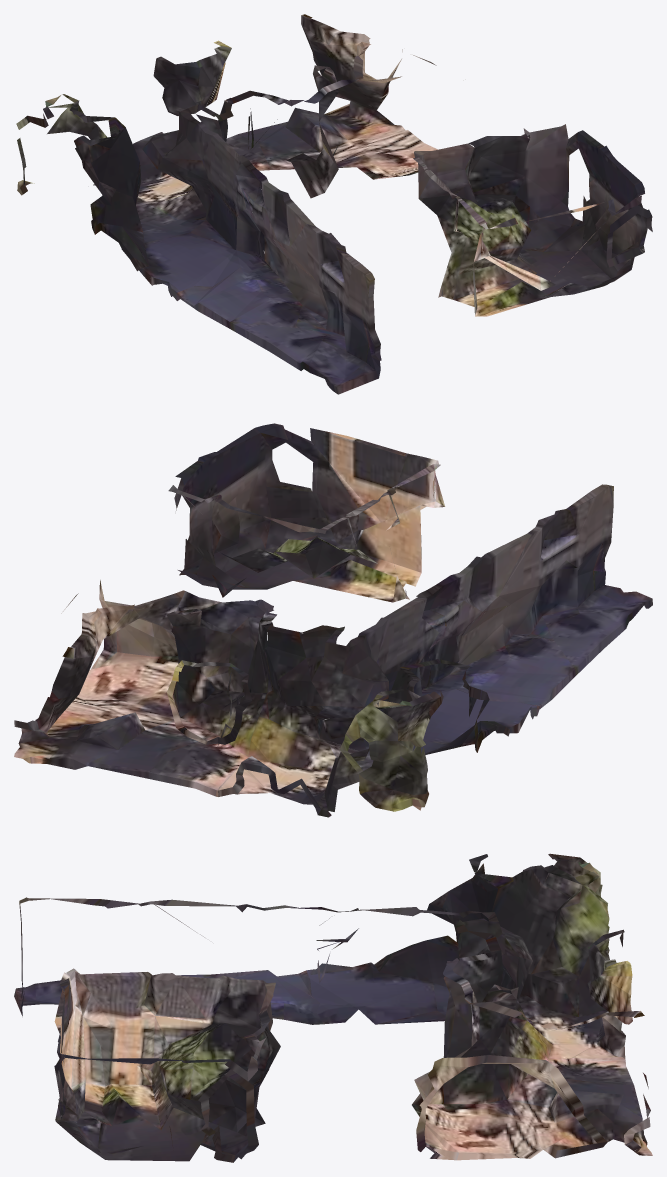
The picture shows the model from 3 angles, top to bottom: view 1: azimuth 30°, elevation 25°; view 2: azimuth 150°, elevation 25°; view 3: azimuth 270°, elevation 25°; orthographic projection. The views are drawn at different scales.
Parts seen in each view (by area): view 1: Mesh_0; view 2: Mesh_0; view 3: Mesh_0.
Part boxes in pixels (x1=…): Mesh_0: x1=16, y1=14, x2=652, y2=394; Mesh_0: x1=14, y1=423, x2=652, y2=817; Mesh_0: x1=14, y1=853, x2=652, y2=1162.
Bounding box in the file's own units: 32.86 × 9.31 × 41.46.
Materials: 1 (1 with a texture image).
